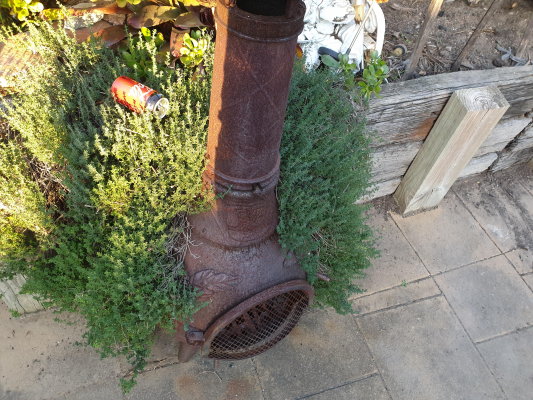Plastic Bottle: (110, 75, 169, 119)
